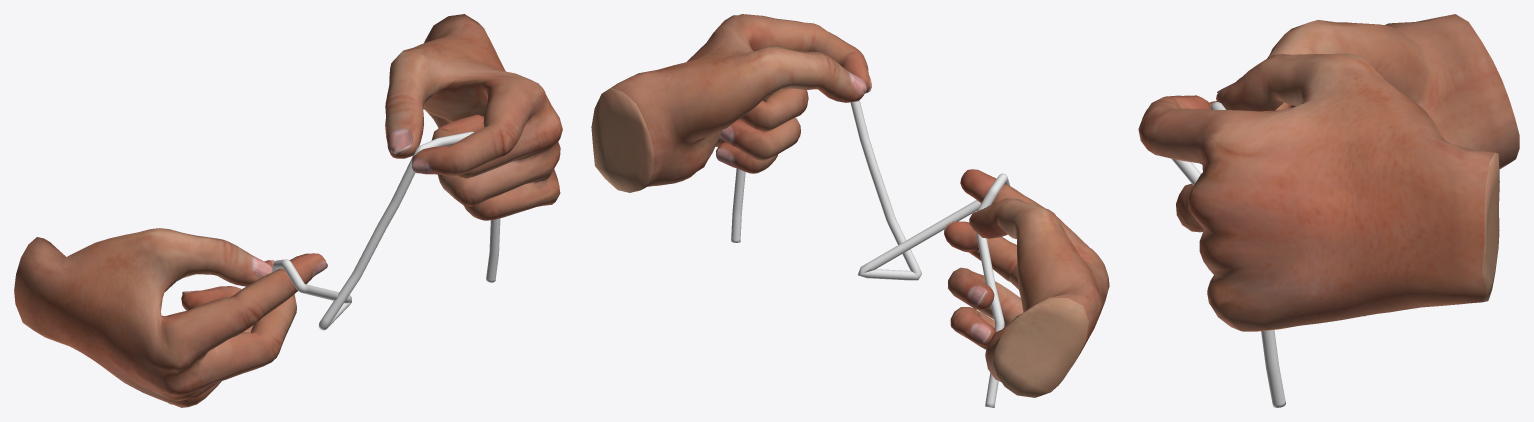
The model's file is zfk_part1_assi_indexturn.fbx.
The picture shows the model from 3 angles, left to right: view 1: azimuth 30°, elevation 25°; view 2: azimuth 150°, elevation 25°; view 3: azimuth 270°, elevation 25°; orthographic projection. The views are drawn at different scales.
Visible parts, largest first — view 1: Hand_R, Hand_L, faden_L, faden_R; view 2: Hand_L, Hand_R, faden_R, faden_L; view 3: Hand_L, Hand_R, faden_L, faden_R.
Boxes of the visible parts, x1,y1,x2,y2 form: Hand_R: [14, 228, 327, 407]; Hand_L: [385, 14, 562, 220]; faden_L: [318, 131, 500, 330]; faden_R: [168, 259, 351, 404]; Hand_L: [591, 14, 871, 192]; Hand_R: [944, 169, 1109, 397]; faden_R: [857, 173, 1010, 407]; faden_L: [731, 100, 921, 280]; Hand_L: [1138, 53, 1499, 331]; Hand_R: [1176, 14, 1519, 232]; faden_L: [1210, 102, 1285, 407]; faden_R: [1171, 158, 1365, 316].
Bounding box in the file's own units: 34.81 × 20.46 × 16.96.
